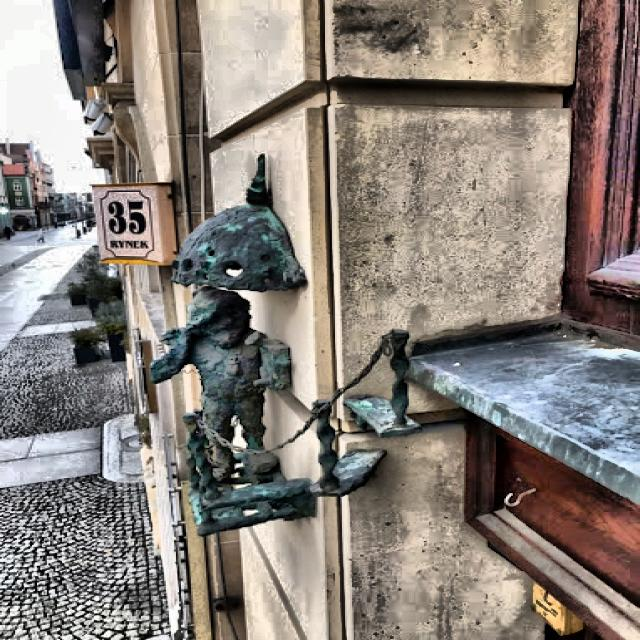Dryndek: (150, 155, 384, 534)
